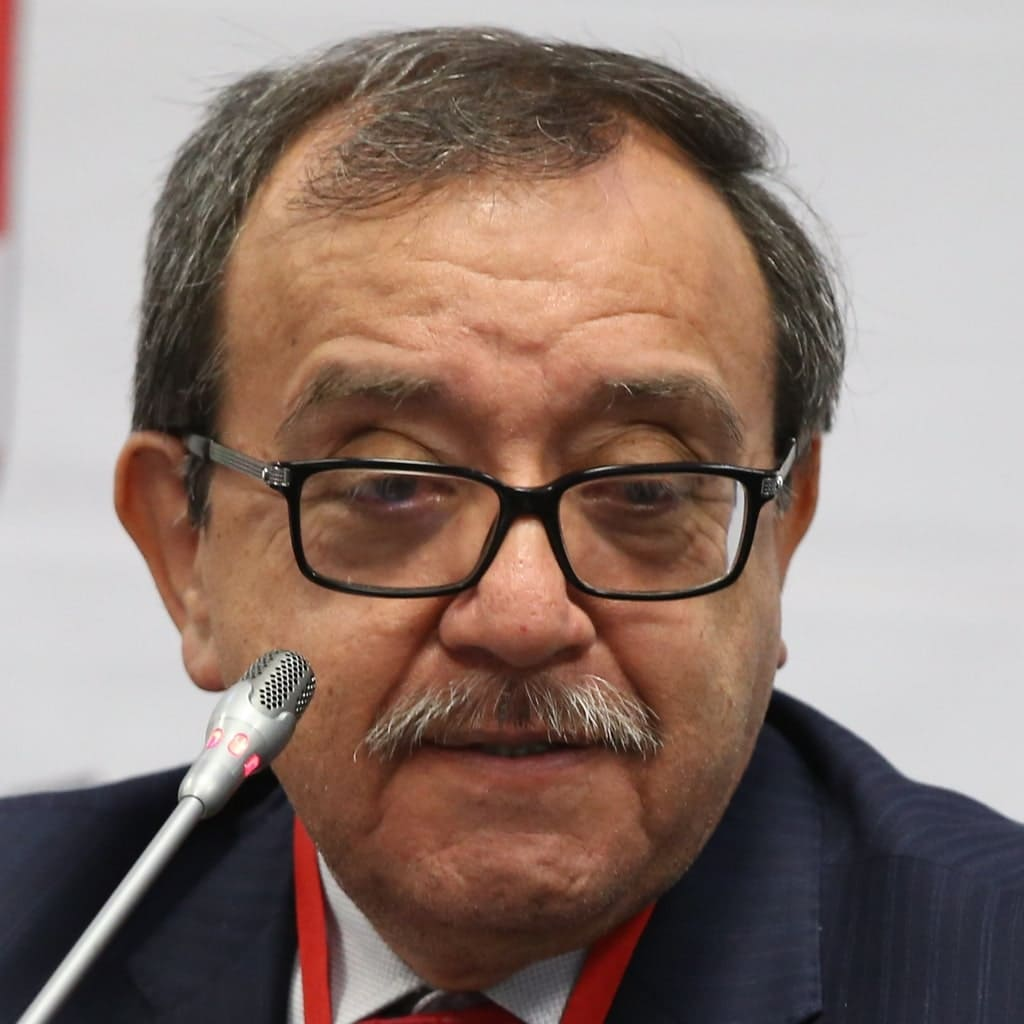without_mask: (221, 166, 789, 946)
